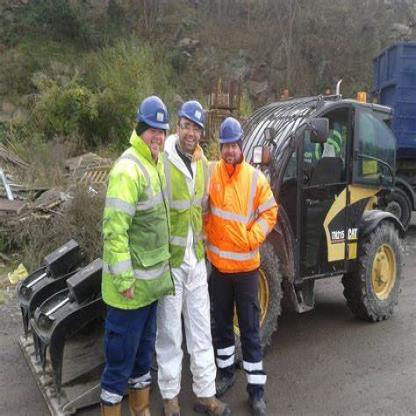person: (208, 108, 290, 415), (91, 80, 164, 413), (165, 86, 213, 406)
